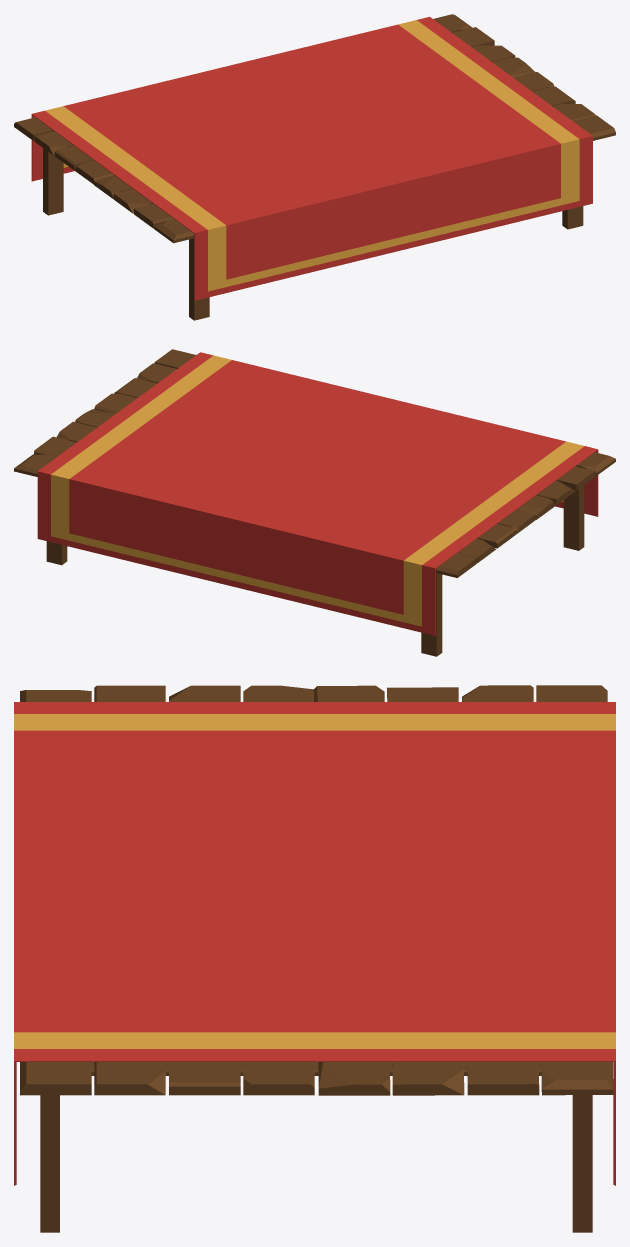
Rendered from Table_B.fbx.
The picture shows the model from 3 angles, top to bottom: view 1: azimuth 30°, elevation 25°; view 2: azimuth 150°, elevation 25°; view 3: azimuth 270°, elevation 25°; orthographic projection. The views are drawn at different scales.
Visible parts, largest first — view 1: table_2.001; view 2: table_2.001; view 3: table_2.001.
Part boxes in pixels (x1,y1,x2,y2): table_2.001: (14, 14, 615, 320); table_2.001: (14, 349, 615, 656); table_2.001: (14, 685, 615, 1232).
Bounding box in the file's own units: 235 × 47.75 × 150.
